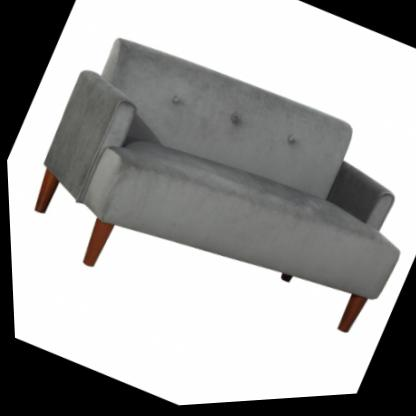Sofa: (1, 5, 416, 395)
